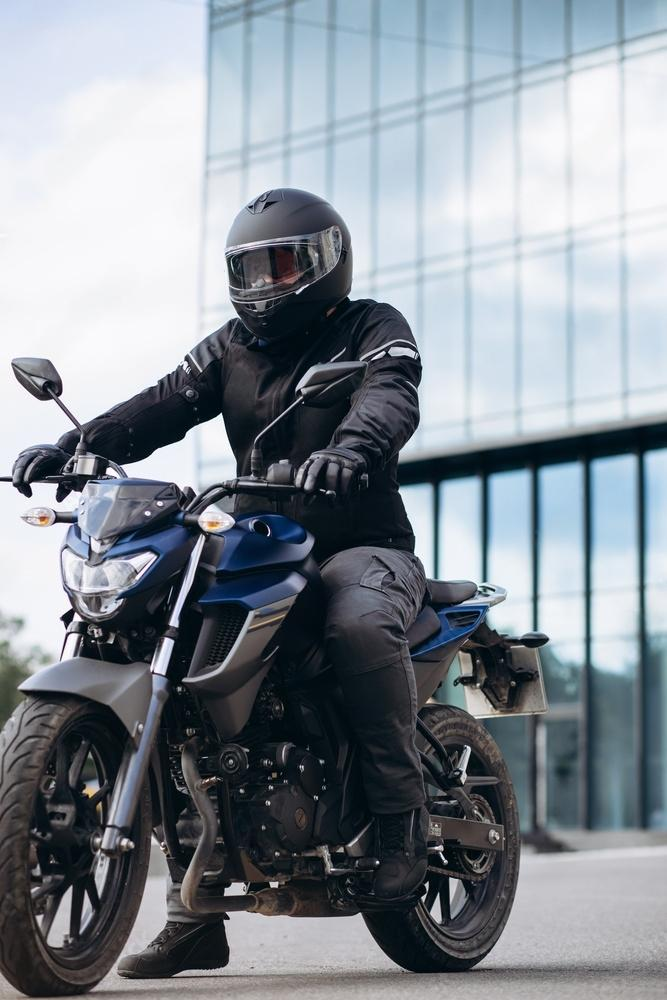helmet: (223, 186, 354, 343)
